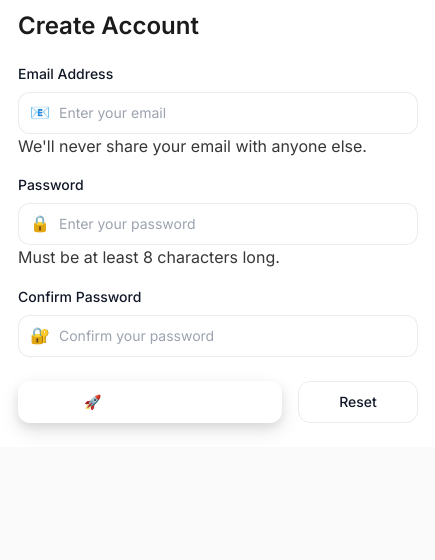
Test: Form Integration › Form Submission › shows success message after successful submission
Type "test@example.com" into the field labelled "Email Address".
click(218, 113); type("test@example.com")  # box [18,92,418,134]
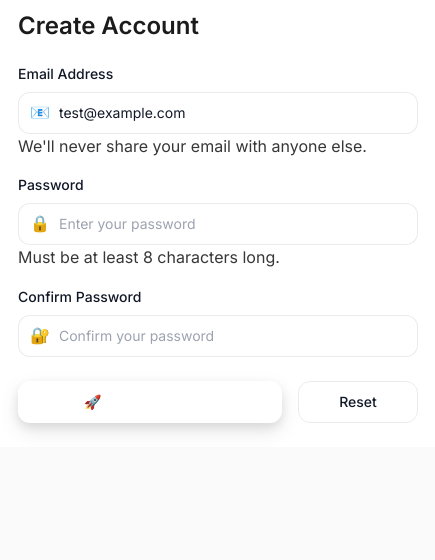
Type "password123" into the password field labelled "Password".
click(218, 224); type("password123")  # box [18,203,418,245]
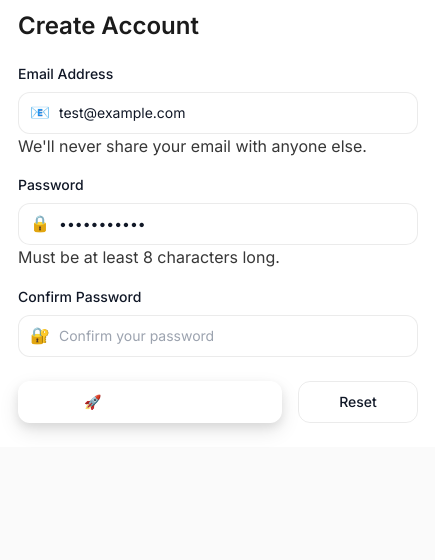
Type "password123" into the password field labelled "Confirm Password".
click(218, 336); type("password123")  # box [18,315,418,357]
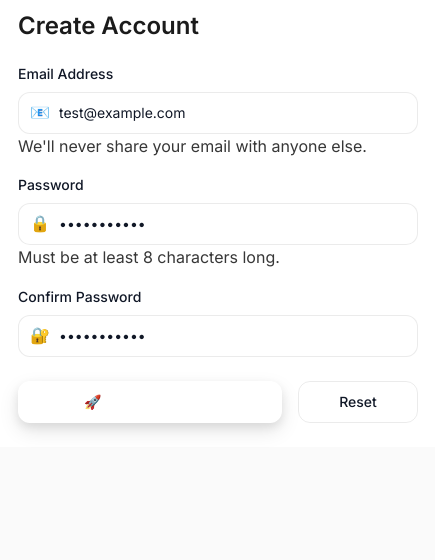
// Submit form
Click the button "🚀 Create Account".
click(150, 402)  # box [18,381,282,423]
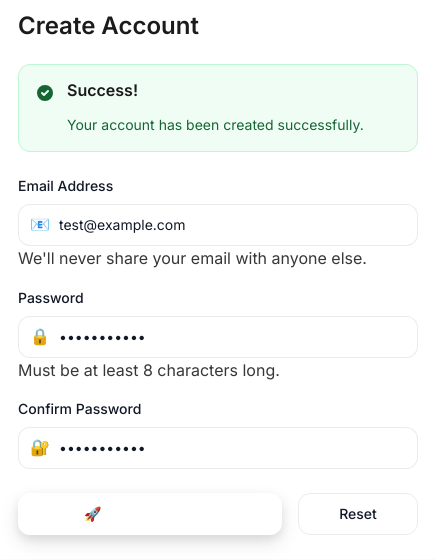
Expected: the heading "Success!" is shown, [67,80,138,100]
Expected: the text "Your account has been created successfully." is shown, [67,115,401,135]
